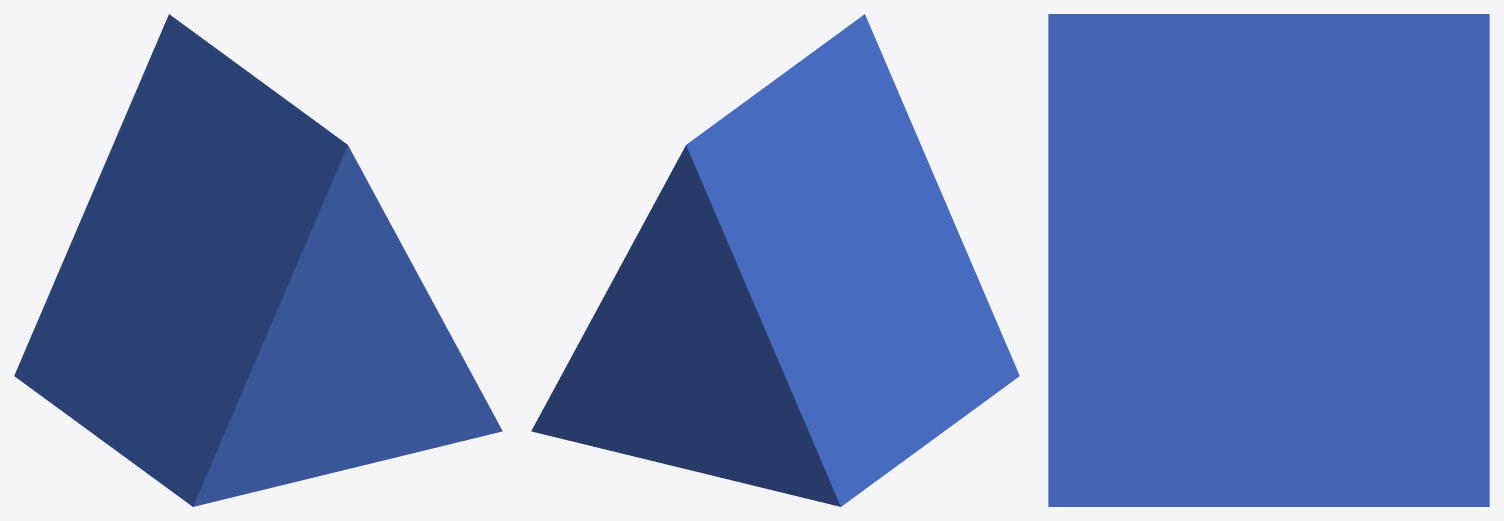
Rendered from ConstructionTriangle_E.fbx.
3 views of the same model, side by side, from view 1: azimuth 30°, elevation 25°; view 2: azimuth 150°, elevation 25°; view 3: azimuth 270°, elevation 25° (orthographic). The views are drawn at different scales.
Parts seen in each view (by area): view 1: ConstructionTriangle_E; view 2: ConstructionTriangle_E; view 3: ConstructionTriangle_E.
Boxes of the visible parts, left/top/right/bottom form: ConstructionTriangle_E: left=14, top=14, right=502, bottom=506; ConstructionTriangle_E: left=531, top=14, right=1019, bottom=506; ConstructionTriangle_E: left=1048, top=14, right=1489, bottom=506.
Size of the model in its own units: 900 by 900 by 900.
